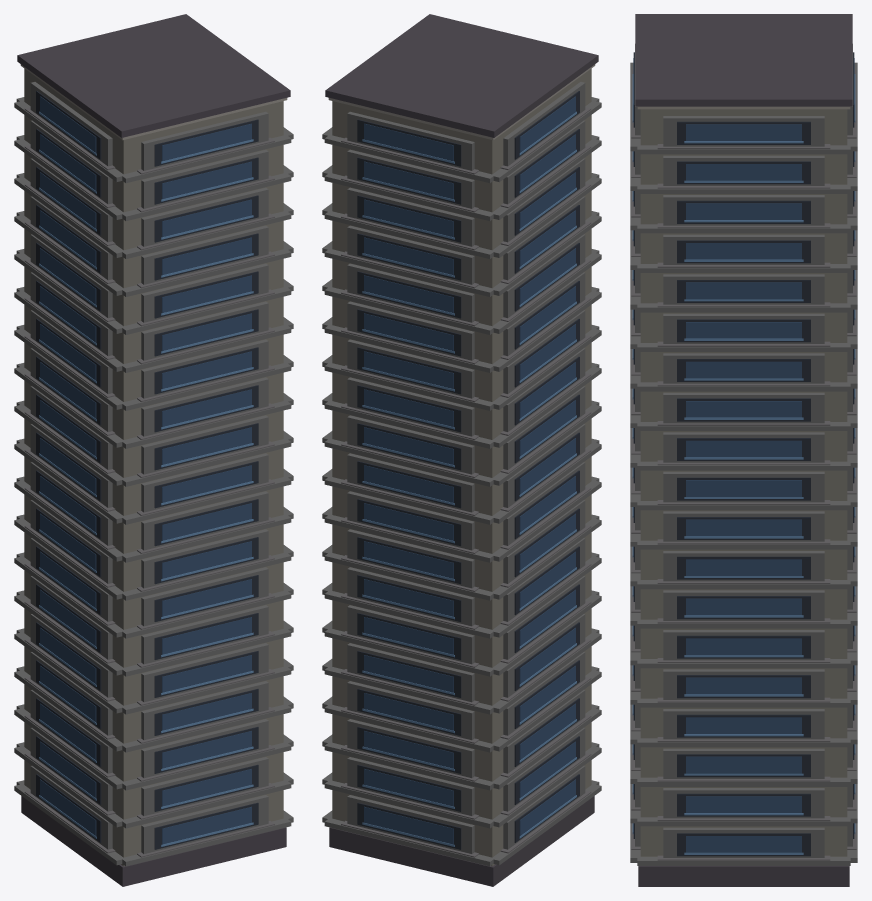
The model's file is TowerTall.obj.
The picture shows the model from 3 angles, left to right: view 1: azimuth 30°, elevation 25°; view 2: azimuth 150°, elevation 25°; view 3: azimuth 270°, elevation 25°; orthographic projection. The views are drawn at different scales.
Visible parts, largest first — view 1: TowerTall; view 2: TowerTall; view 3: TowerTall.
Part boxes in pixels (<box>): TowerTall: <box>14,14,293,886</box>; TowerTall: <box>322,14,601,886</box>; TowerTall: <box>630,14,857,886</box>.
Bounding box in the file's own units: 1.34 × 5.47 × 1.43.
